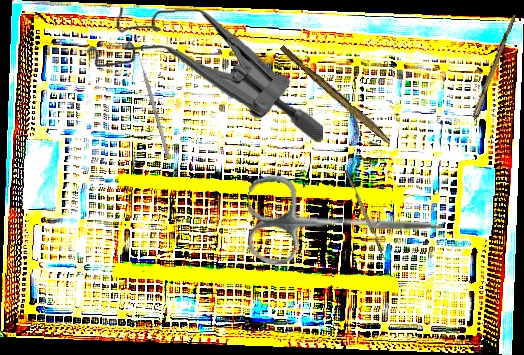Chopper: (344, 167, 392, 265)
Iris Scissors: (247, 174, 444, 269)
Pusher: (135, 47, 171, 159)
Scalpel Handle: (277, 44, 394, 144)
Speculum: (85, 0, 324, 150)
Surgical Spoon: (458, 13, 517, 156)
